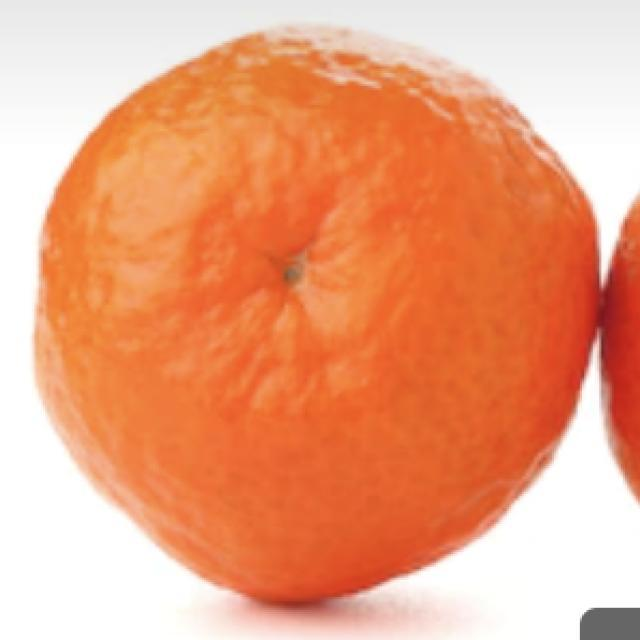Orange: (32, 21, 601, 605), (598, 180, 640, 497)
